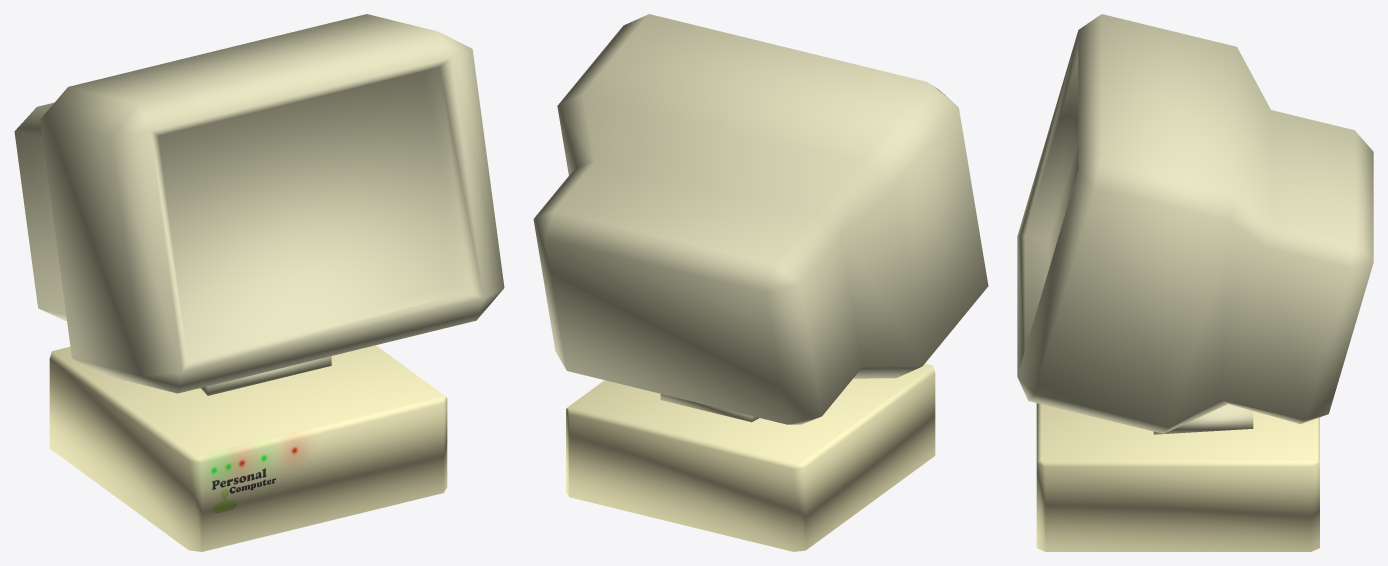
The model's file is Computer.glb.
3 renders of one model, left to right at view 1: azimuth 30°, elevation 25°; view 2: azimuth 150°, elevation 25°; view 3: azimuth 270°, elevation 25°, orthographic. The views are drawn at different scales.
Parts seen in each view (by area): view 1: Monitor, PC; view 2: Monitor, PC; view 3: Monitor, PC.
Part boxes in pixels (<box>): Monitor: <box>14,14,504,395</box>; PC: <box>49,345,447,551</box>; Monitor: <box>533,14,988,424</box>; PC: <box>566,363,935,551</box>; Monitor: <box>1017,14,1373,434</box>; PC: <box>1036,403,1319,551</box>.
Bounding box in the file's own units: 1.4 × 1.59 × 1.26.
Materials: 2 (1 with a texture image).
